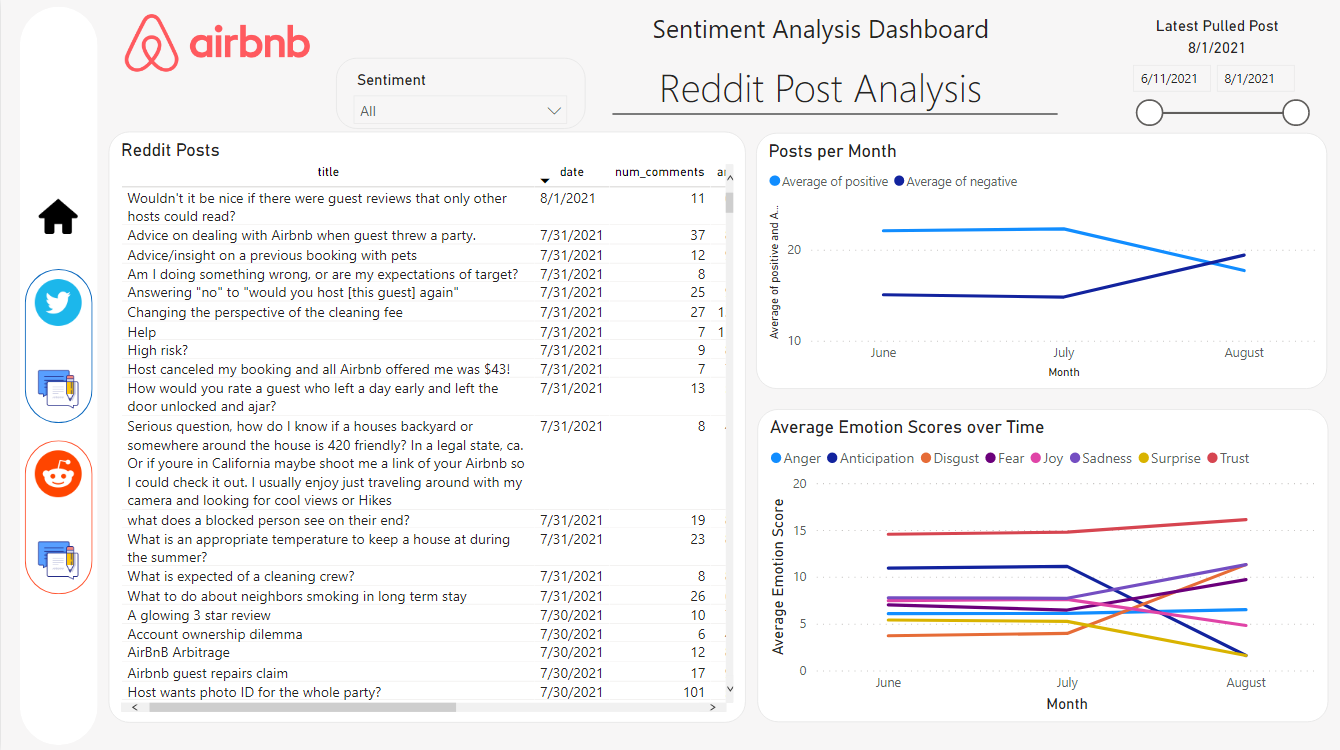

Layout of this report page (visuals, bound fields, positions):
{"tool":"powerbi","page":{"name":"Reddit Post Analysis","canvas":[1280,720],"ordinal":4},"visuals":[{"type":"shape","box":[17.9,6.9,74.2,705.9],"z":0},{"type":"image","box":[114,6.9,186.8,68.7],"z":1000},{"type":"textbox","box":[354.3,6.9,857,46.7],"z":2000},{"type":"textbox","box":[320,53.6,925.7,72.8],"z":3000},{"type":"shape","box":[583.7,104.4,425.8,12.4],"z":4000},{"type":"tableEx","title":"Reddit Posts","fields":{"Values":["AirbnbRedditSentiment.title","AirbnbRedditSentiment.date","Sum(AirbnbRedditSentiment.num_comments)","Sum(AirbnbRedditSentiment.anger)","Sum(AirbnbRedditSentiment.anticipation)","Sum(AirbnbRedditSentiment.disgust)","Sum(AirbnbRedditSentiment.fear)","Sum(AirbnbRedditSentiment.joy)","Sum(AirbnbRedditSentiment.sadness)","Sum(AirbnbRedditSentiment.surprise)","Sum(AirbnbRedditSentiment.trust)","AirbnbRedditSentiment.Sentiment"]},"box":[103,126.4,608.4,564.5],"z":5000},{"type":"lineChart","title":"Posts per Month","fields":{"Category":["AirbnbRedditSentiment.date.Variation.Date Hierarchy.Year","AirbnbRedditSentiment.date.Variation.Date Hierarchy.Quarter","AirbnbRedditSentiment.date.Variation.Date Hierarchy.Month","AirbnbRedditSentiment.date.Variation.Date Hierarchy.Day"],"Y":["Avg(AirbnbRedditSentiment.positive)","Avg(AirbnbRedditSentiment.negative)"]},"box":[721,127.7,545.2,244.5],"z":6000},{"type":"card","title":"Latest Pulled Post","fields":{"Values":["Max(AirbnbRedditSentiment.date)"]},"box":[1056.1,16.5,210.1,45.3],"z":8000},{"type":"image","box":[27.5,258,54.9,64.5],"z":9000},{"type":"image","box":[27.5,339.9,54.9,64.5],"z":10000},{"type":"image","box":[27.5,421.9,54.9,64.5],"z":11000},{"type":"image","box":[27.5,503.9,54.9,64.5],"z":12000},{"type":"group","title":"Group 1","box":[100.6,100.6,397.1,177.3],"z":13000},{"type":"image","box":[27.5,176,54.9,64.5],"z":14000},{"type":"shape","box":[22.7,257.9,64.5,146.9],"z":15000},{"type":"shape","box":[22.7,421.5,64.5,146.9],"z":16000},{"type":"lineChart","title":"Average Emotion Scores over Time","fields":{"Y":["Avg(AirbnbRedditSentiment.anger)","Avg(AirbnbRedditSentiment.anticipation)","Avg(AirbnbRedditSentiment.disgust)","Avg(AirbnbRedditSentiment.fear)","Avg(AirbnbRedditSentiment.joy)","Avg(AirbnbRedditSentiment.sadness)","Avg(AirbnbRedditSentiment.surprise)","Avg(AirbnbRedditSentiment.trust)"],"Category":["AirbnbRedditSentiment.date.Variation.Date Hierarchy.Year","AirbnbRedditSentiment.date.Variation.Date Hierarchy.Quarter","AirbnbRedditSentiment.date.Variation.Date Hierarchy.Month","AirbnbRedditSentiment.date.Variation.Date Hierarchy.Day"]},"box":[722.4,391.4,545.2,299.4],"z":18000},{"type":"slicer","fields":{"Values":["AirbnbRedditSentiment.Sentiment"]},"box":[320.3,55.7,238.2,68.2],"z":19000},{"type":"slicer","fields":{"Values":["AirbnbRedditSentiment.date"]},"box":[1068.3,52.9,189.4,78],"z":20000}]}

Visuals, with their boxes in screenshot pixels (x1, y1, x2, y2), scaled from the page's 1280x720 canvas onto the 1340x750 screenshot:
shape: (x1=19, y1=7, x2=96, y2=742)
image: (x1=119, y1=7, x2=315, y2=79)
textbox: (x1=371, y1=7, x2=1268, y2=56)
textbox: (x1=335, y1=56, x2=1304, y2=132)
shape: (x1=611, y1=109, x2=1057, y2=122)
"Reddit Posts" tableEx: (x1=108, y1=132, x2=745, y2=720)
"Posts per Month" lineChart: (x1=755, y1=133, x2=1326, y2=388)
"Latest Pulled Post" card: (x1=1106, y1=17, x2=1326, y2=64)
image: (x1=29, y1=269, x2=86, y2=336)
image: (x1=29, y1=354, x2=86, y2=421)
image: (x1=29, y1=439, x2=86, y2=507)
image: (x1=29, y1=525, x2=86, y2=592)
"Group 1" group: (x1=105, y1=105, x2=521, y2=289)
image: (x1=29, y1=183, x2=86, y2=251)
shape: (x1=24, y1=269, x2=91, y2=422)
shape: (x1=24, y1=439, x2=91, y2=592)
"Average Emotion Scores over Time" lineChart: (x1=756, y1=408, x2=1327, y2=720)
slicer - AirbnbRedditSentiment.Sentiment: (x1=335, y1=58, x2=585, y2=129)
slicer - AirbnbRedditSentiment.date: (x1=1118, y1=55, x2=1317, y2=136)
